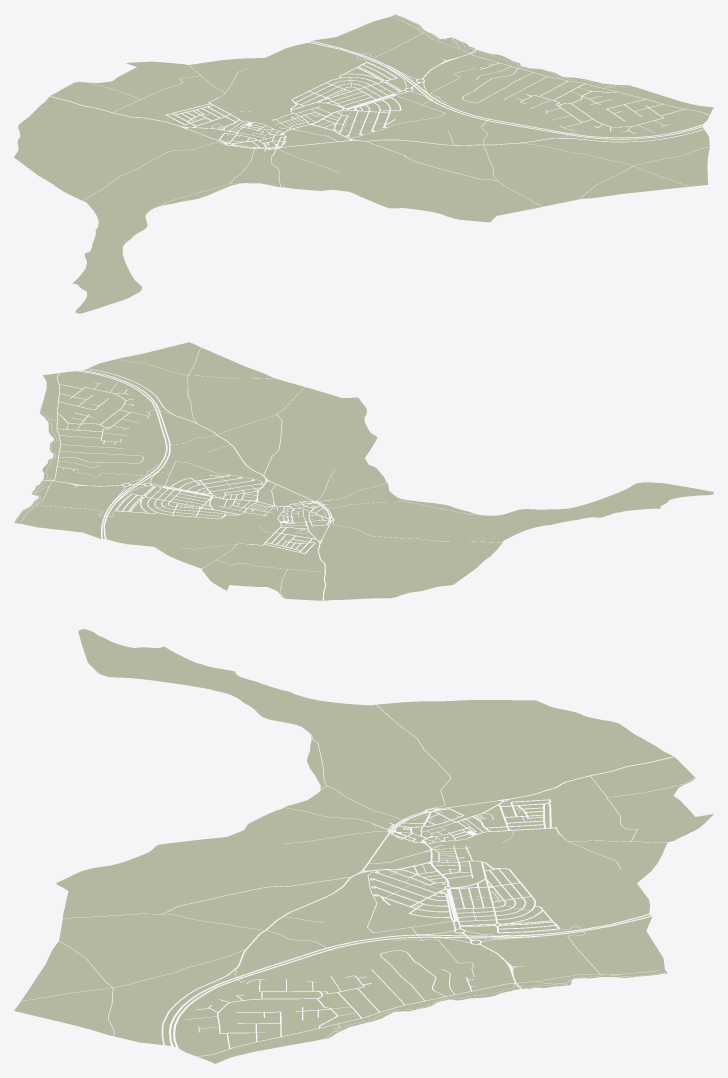
The model's file is almensilla_terrain.glb.
3 views of the same model, one above another, from view 1: azimuth 30°, elevation 25°; view 2: azimuth 150°, elevation 25°; view 3: azimuth 270°, elevation 25° (orthographic). The views are drawn at different scales.
Visible parts, largest first — view 1: TERRAIN_2_-2, TERRAIN_3_-3, TERRAIN_-4_1, TERRAIN_-3_0, TERRAIN_-3_1, TERRAIN_0_-2, TERRAIN_1_-3, TERRAIN_1_-1, TERRAIN_-4_0, TERRAIN_0_2, TERRAIN_-1_-1, TERRAIN_2_-3 (+52 smaller); view 2: TERRAIN_-4_0, TERRAIN_-4_1, TERRAIN_0_-2, TERRAIN_0_2, TERRAIN_1_-3, TERRAIN_-3_0, TERRAIN_1_-2, TERRAIN_3_-3, TERRAIN_-1_-1, TERRAIN_2_-3, TERRAIN_-3_1, TERRAIN_3_0 (+51 smaller); view 3: TERRAIN_0_2, TERRAIN_-4_1, TERRAIN_2_-3, TERRAIN_-3_1, TERRAIN_1_-3, TERRAIN_3_-3, TERRAIN_-3_2, TERRAIN_0_-2, TERRAIN_1_-2, TERRAIN_-4_0, TERRAIN_-3_0, TERRAIN_-1_-1 (+52 smaller).
Boxes of the visible parts, box(x1,y1,x2,y2) form: TERRAIN_2_-2: box(455, 132, 541, 169); TERRAIN_3_-3: box(542, 142, 629, 178); TERRAIN_-4_1: box(26, 143, 113, 179); TERRAIN_-3_0: box(114, 153, 200, 189); TERRAIN_-3_1: box(82, 130, 168, 166); TERRAIN_0_-2: box(344, 159, 431, 196); TERRAIN_1_-3: box(432, 169, 518, 206); TERRAIN_1_-1: box(368, 122, 454, 159); TERRAIN_-4_0: box(58, 166, 144, 203); TERRAIN_0_2: box(216, 65, 302, 102); TERRAIN_-1_-1: box(257, 149, 343, 186); TERRAIN_2_-3: box(487, 156, 573, 192); TERRAIN_-4_0: box(425, 526, 503, 559); TERRAIN_-4_1: box(396, 548, 474, 580); TERRAIN_0_-2: box(282, 435, 360, 468); TERRAIN_0_2: box(166, 520, 244, 553); TERRAIN_1_-3: box(261, 401, 339, 434); TERRAIN_-3_0: box(375, 514, 453, 547); TERRAIN_1_-2: box(232, 422, 310, 455); TERRAIN_3_-3: box(160, 377, 238, 410); TERRAIN_-1_-1: box(303, 468, 381, 501); TERRAIN_2_-3: box(211, 389, 288, 422); TERRAIN_-3_1: box(346, 535, 424, 568); TERRAIN_3_0: box(73, 441, 151, 473); TERRAIN_0_2: box(529, 846, 612, 881); TERRAIN_-4_1: box(446, 706, 529, 741); TERRAIN_2_-3: box(115, 916, 198, 951); TERRAIN_-3_1: box(446, 741, 529, 776); TERRAIN_1_-3: box(115, 881, 198, 916); TERRAIN_3_-3: box(115, 951, 198, 986); TERRAIN_-3_2: box(529, 741, 612, 776); TERRAIN_0_-2: box(198, 846, 280, 881); TERRAIN_1_-2: box(198, 881, 280, 916); TERRAIN_-4_0: box(364, 706, 446, 741); TERRAIN_-3_0: box(364, 741, 446, 776); TERRAIN_-1_-1: box(281, 811, 363, 846).
Size of the model in its own units: 6216 by 0 by 4229.
